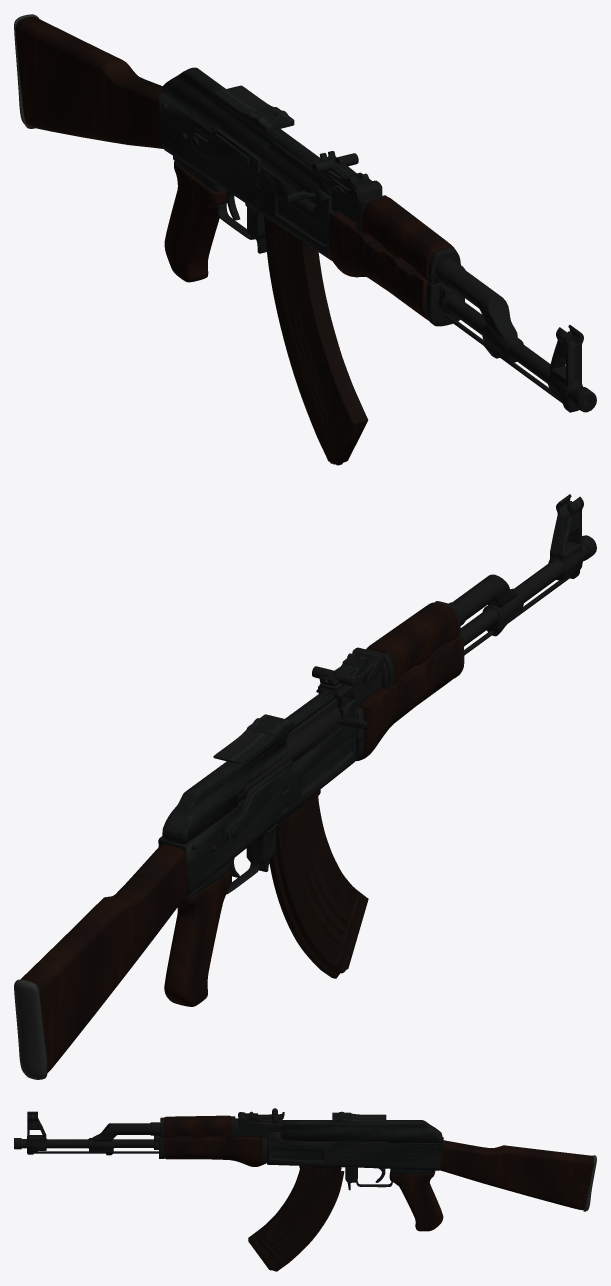
The picture shows the model from 3 angles, top to bottom: view 1: azimuth 30°, elevation 25°; view 2: azimuth 150°, elevation 25°; view 3: azimuth 270°, elevation 25°; orthographic projection. The views are drawn at different scales.
Parts seen in each view (by area): view 1: StockWoodGeometry, FurnitureGeometry, WeaponBodyGeometry, MagazineGeometry, ReceiverGeometry, ChargingHandleGeometry, BoltHardwareGeometry, OpticRailAdapterGeometry, FrontIronGeometry, RearIronGeometry; view 2: StockWoodGeometry, FurnitureGeometry, ReceiverGeometry, MagazineGeometry, WeaponBodyGeometry, StockButtpadGeometry, ChargingHandleGeometry, BoltHardwareGeometry, OpticRailAdapterGeometry, FrontIronGeometry, RearIronGeometry; view 3: ReceiverGeometry, StockWoodGeometry, FurnitureGeometry, MagazineGeometry, WeaponBodyGeometry, OpticRailAdapterGeometry, FrontIronGeometry, RearIronGeometry, StockButtpadGeometry.
Part boxes in pixels (x1,y1,x2,y2): StockWoodGeometry: (15,16,163,148); FurnitureGeometry: (164,161,455,320); WeaponBodyGeometry: (162,103,596,412); MagazineGeometry: (263,215,368,465); ReceiverGeometry: (158,67,331,260); ChargingHandleGeometry: (214,122,318,204); BoltHardwareGeometry: (191,128,359,204); OpticRailAdapterGeometry: (213,85,294,131); FrontIronGeometry: (550,325,583,380); RearIronGeometry: (319,151,372,189); StockWoodGeometry: (20,844,188,1072); FurnitureGeometry: (164,602,461,1006); ReceiverGeometry: (158,690,356,895); MagazineGeometry: (269,789,368,978); WeaponBodyGeometry: (185,535,596,897); StockButtpadGeometry: (14,979,47,1079); ChargingHandleGeometry: (238,698,366,804); BoltHardwareGeometry: (223,653,384,844); OpticRailAdapterGeometry: (213,714,293,764); FrontIronGeometry: (550,494,583,555); RearIronGeometry: (319,652,372,690); ReceiverGeometry: (267,1120,443,1170); StockWoodGeometry: (439,1140,593,1210); FurnitureGeometry: (164,1115,443,1231); MagazineGeometry: (248,1165,344,1271); WeaponBodyGeometry: (14,1108,436,1190); OpticRailAdapterGeometry: (332,1111,386,1122); FrontIronGeometry: (27,1111,46,1138); RearIronGeometry: (245,1111,284,1121); StockButtpadGeometry: (583,1155,596,1211).
Size of the model in its own units: 0.0552 by 0.2637 by 0.88.
Materials: 7 (6 with a texture image).
